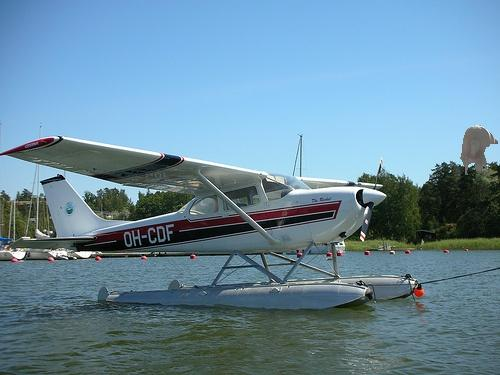tampered: (461, 126, 498, 175)
